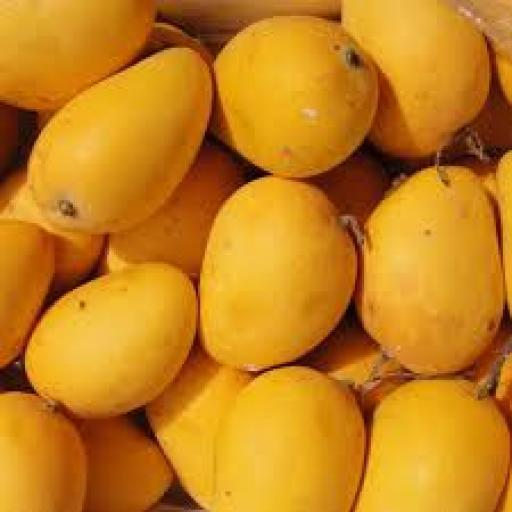mango: (30, 48, 213, 234), (358, 169, 507, 375), (203, 178, 359, 370), (28, 262, 197, 420), (337, 0, 496, 163), (217, 19, 377, 179), (210, 367, 366, 511), (362, 378, 509, 511)
